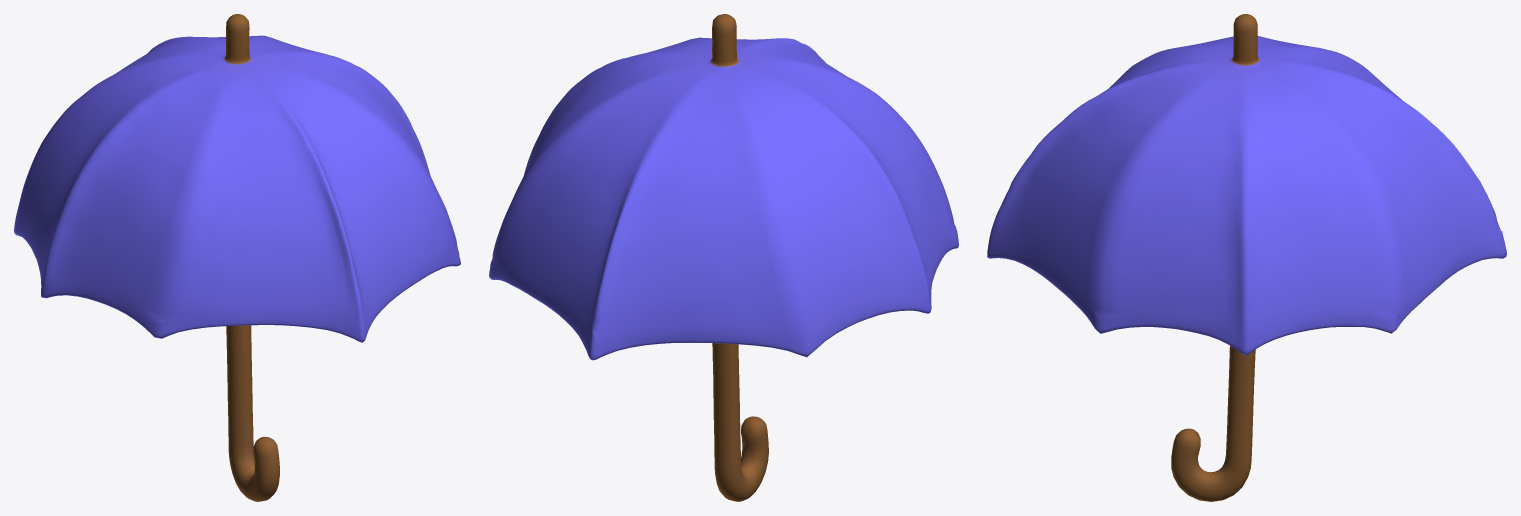
File: umbrella.glb
3 renders of one model, left to right at view 1: azimuth 30°, elevation 25°; view 2: azimuth 150°, elevation 25°; view 3: azimuth 270°, elevation 25°, orthographic. The views are drawn at different scales.
Visible parts, largest first — view 1: umbrella; view 2: umbrella; view 3: umbrella.
Part boxes in pixels (x1,y1,x2,y2): umbrella: (14, 14, 460, 501); umbrella: (489, 14, 958, 501); umbrella: (987, 14, 1506, 501).
Bounding box in the file's own units: 1.64 × 1.88 × 1.82.
1 material, 1 textured.
